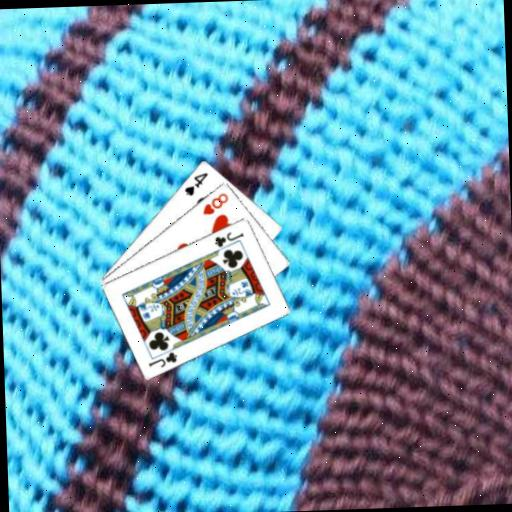4S: (181, 169, 210, 197)
8H: (199, 189, 230, 217)
JC: (211, 228, 245, 249), (145, 348, 179, 369)
